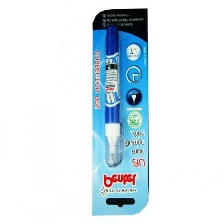book: (89, 6, 149, 218)
correction_fluid: (102, 22, 125, 170)
